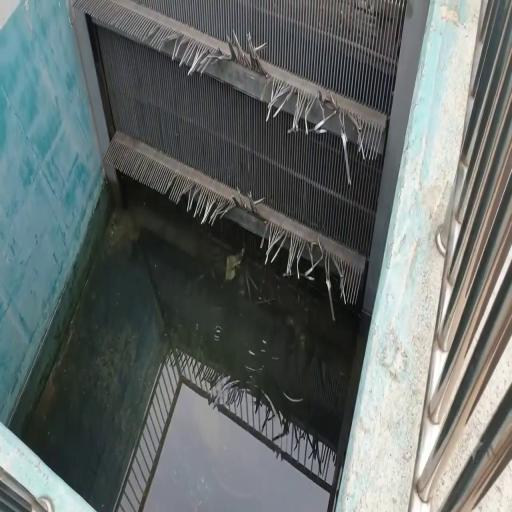rake_broken: (215, 37, 264, 94), (340, 110, 370, 185), (309, 228, 337, 300), (304, 82, 338, 140), (225, 184, 262, 234), (184, 34, 216, 88), (195, 177, 225, 232), (260, 68, 285, 130), (285, 74, 307, 144), (286, 226, 309, 287), (258, 220, 290, 263), (166, 172, 194, 206), (165, 25, 187, 66), (140, 22, 166, 56), (338, 254, 344, 296)
